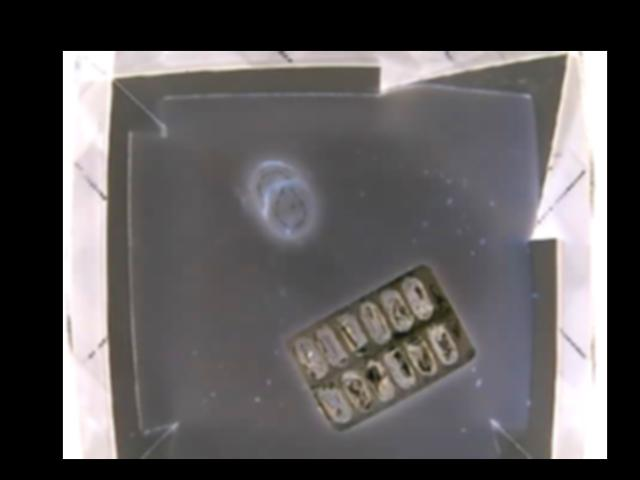Medicine: (286, 262, 478, 430)
Pebble: (248, 158, 316, 239)
